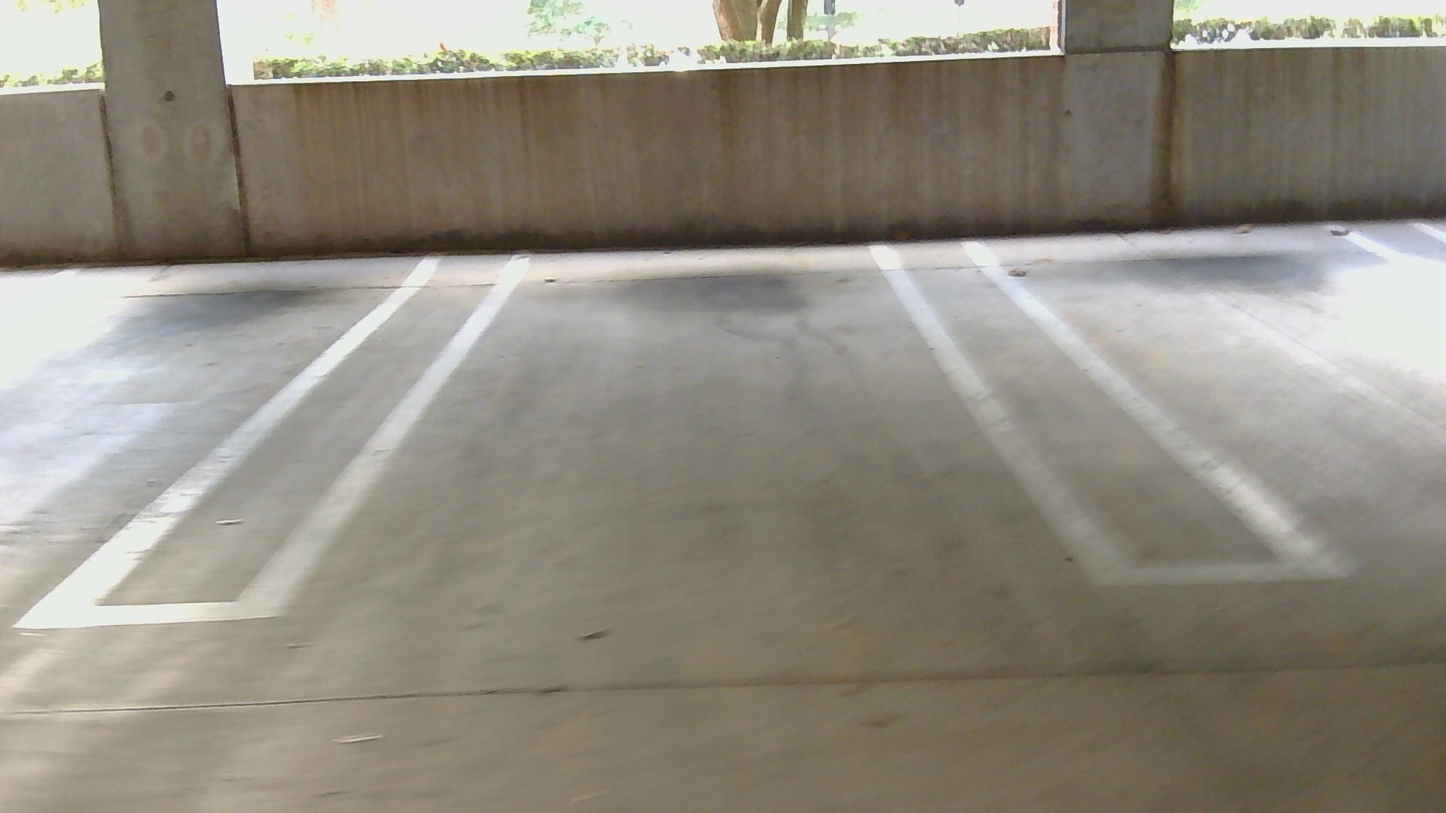empty_spot: (200, 122, 1188, 604), (941, 114, 1446, 594), (0, 134, 502, 614)
